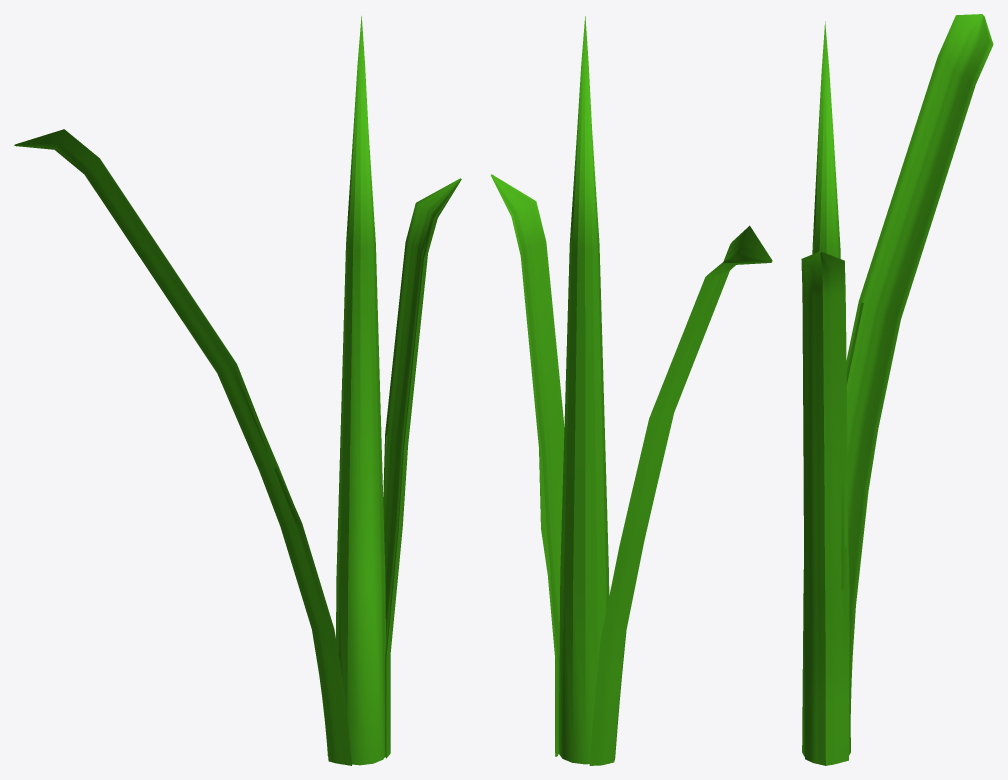
The model's file is grass-plant.obj.
3 renders of one model, left to right at view 1: azimuth 30°, elevation 25°; view 2: azimuth 150°, elevation 25°; view 3: azimuth 270°, elevation 25°, orthographic.
Visible parts, largest first — view 1: Cone, Plane_Duplicate2, Plane_Duplicate3; view 2: Cone, Plane_Duplicate2, Plane_Duplicate3; view 3: Plane_Duplicate2, Plane_Duplicate3, Cone.
Part boxes in pixels (x1,y1,x2,y2): Cone: (336, 16, 385, 765); Plane_Duplicate2: (14, 129, 351, 765); Plane_Duplicate3: (383, 178, 461, 758); Cone: (559, 16, 609, 764); Plane_Duplicate2: (589, 225, 772, 765); Plane_Duplicate3: (490, 174, 564, 756); Plane_Duplicate2: (846, 14, 993, 713); Plane_Duplicate3: (801, 251, 848, 765); Cone: (802, 21, 850, 756).
Size of the model in its own units: 6.69 by 12.99 by 3.09.
